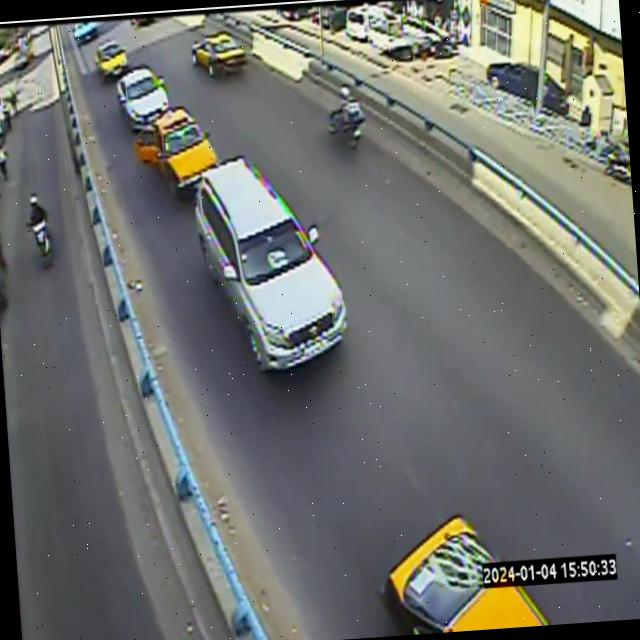car: (194, 155, 347, 370), (381, 514, 548, 634), (134, 106, 217, 195), (117, 67, 168, 127), (191, 30, 246, 77), (96, 39, 127, 79), (73, 21, 98, 45)
